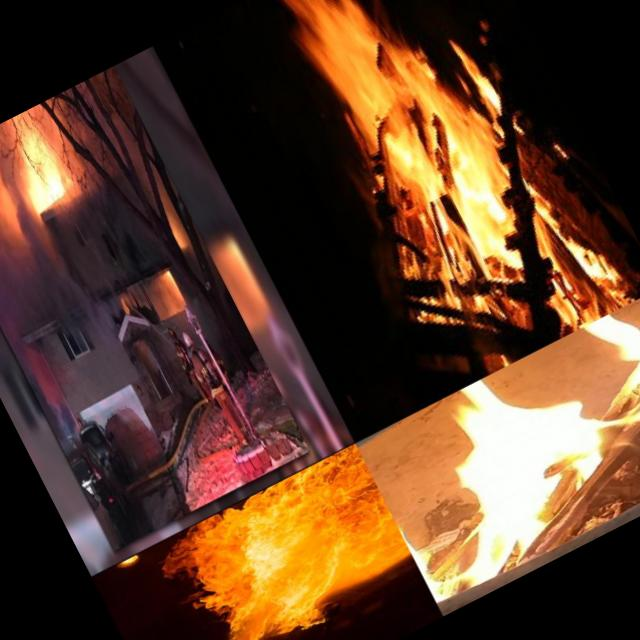fire: (256, 0, 636, 377), (355, 291, 640, 605), (146, 443, 420, 640), (13, 146, 83, 224), (159, 205, 188, 252), (158, 259, 186, 303)
smoke: (0, 195, 89, 355), (79, 282, 139, 352)
